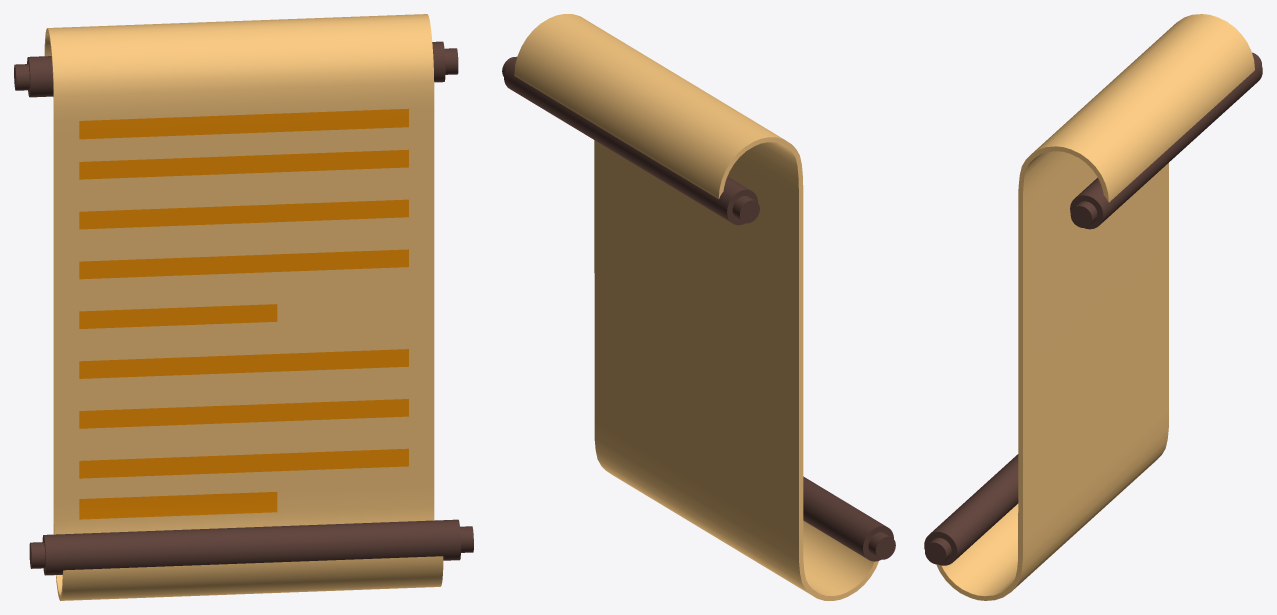
File: scroll.glb
3 views of the same model, side by side, from view 1: azimuth 30°, elevation 25°; view 2: azimuth 150°, elevation 25°; view 3: azimuth 270°, elevation 25° (orthographic). The views are drawn at different scales.
Parts seen in each view (by area): view 1: scroll; view 2: scroll; view 3: scroll.
Boxes of the visible parts, x1,y1,x2,y2 form: scroll: (14, 14, 473, 600); scroll: (502, 14, 895, 600); scroll: (924, 14, 1262, 600).
Bounding box in the file's own units: 1.92 × 2.25 × 1.47.
Materials: 1 (1 with a texture image).
